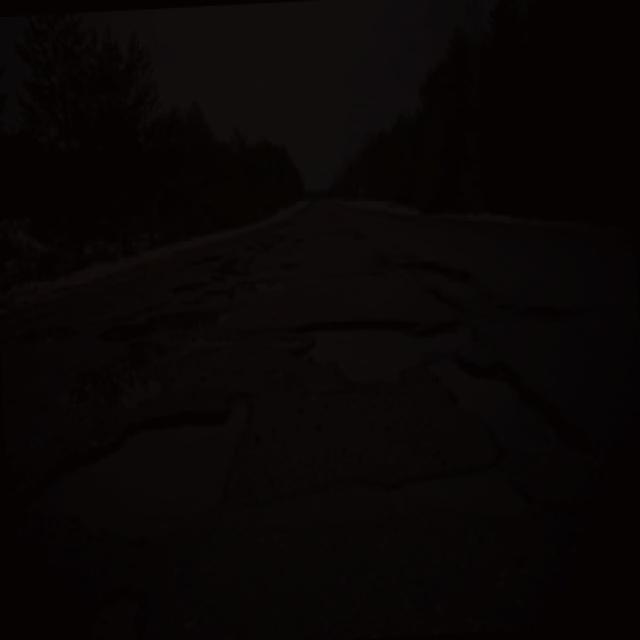Pothole: (0, 373, 277, 561), (425, 343, 598, 461), (222, 458, 530, 523), (281, 312, 483, 383), (165, 221, 309, 301), (105, 298, 238, 360), (63, 575, 157, 640), (401, 250, 473, 298)
